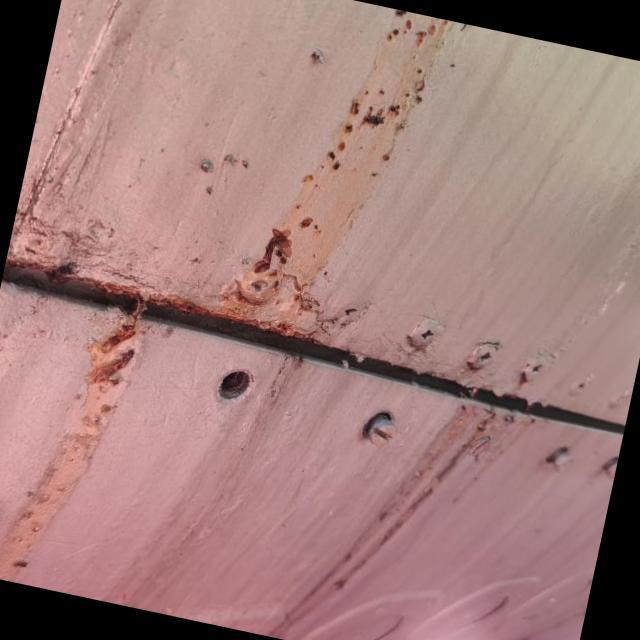Fastener Damage: (180, 332, 291, 442)
